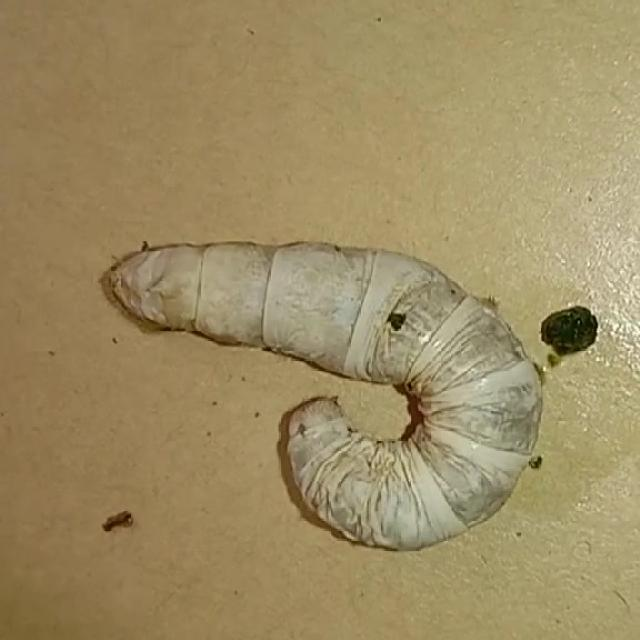Grasserie: (95, 223, 551, 554)
